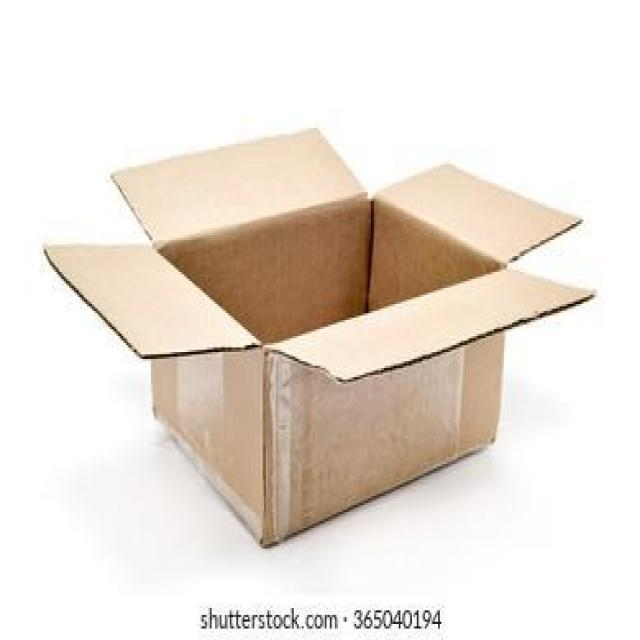cardboard: (43, 126, 595, 552)
